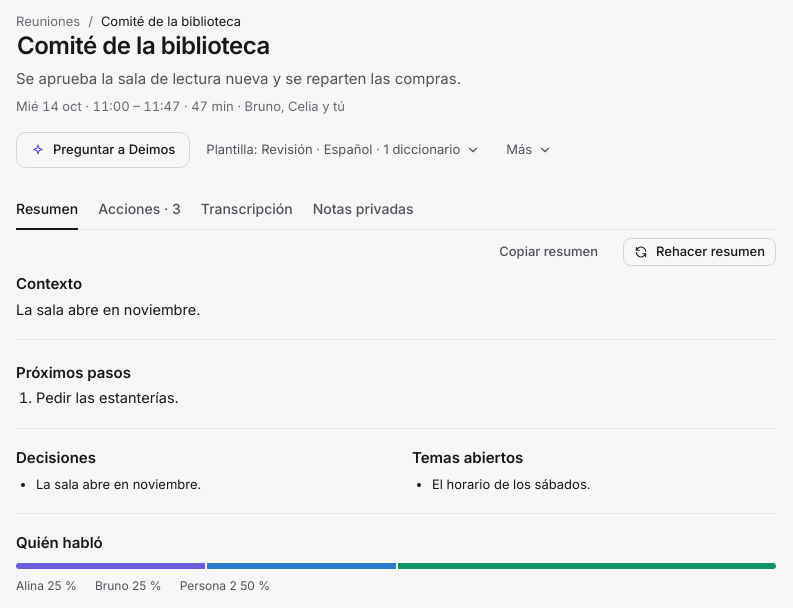
Test: every «Copiar» says it copied › in Transcripción, «Copiar» → «✓ Copiado»
Click the tab "Transcripción": (247, 210) [201,190,293,230]
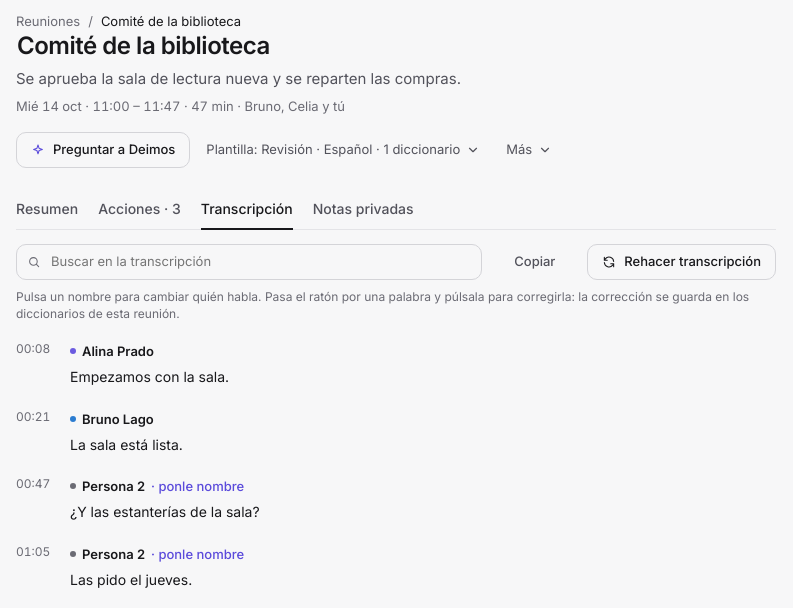
Click the button "Copiar": (535, 262) [488,244,581,280]
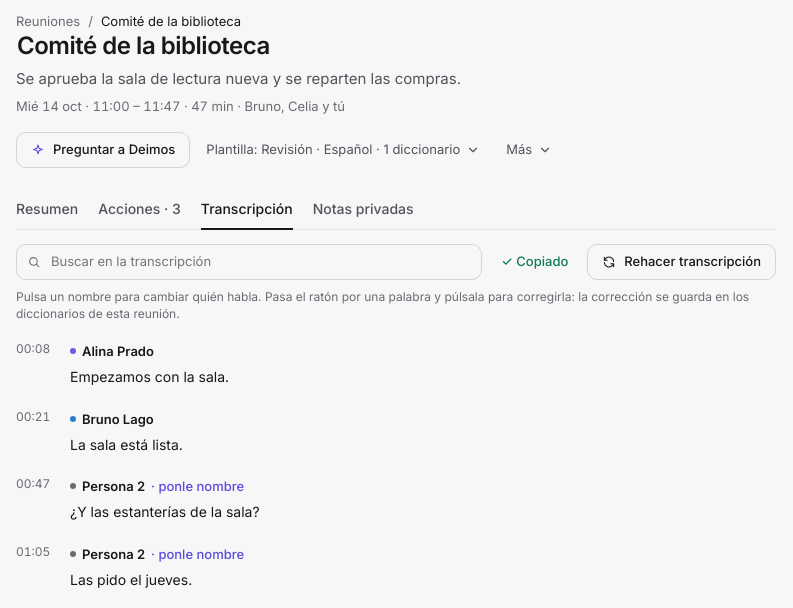
Expected: the button "✓ Copiado" is shown, [488,244,581,280]
